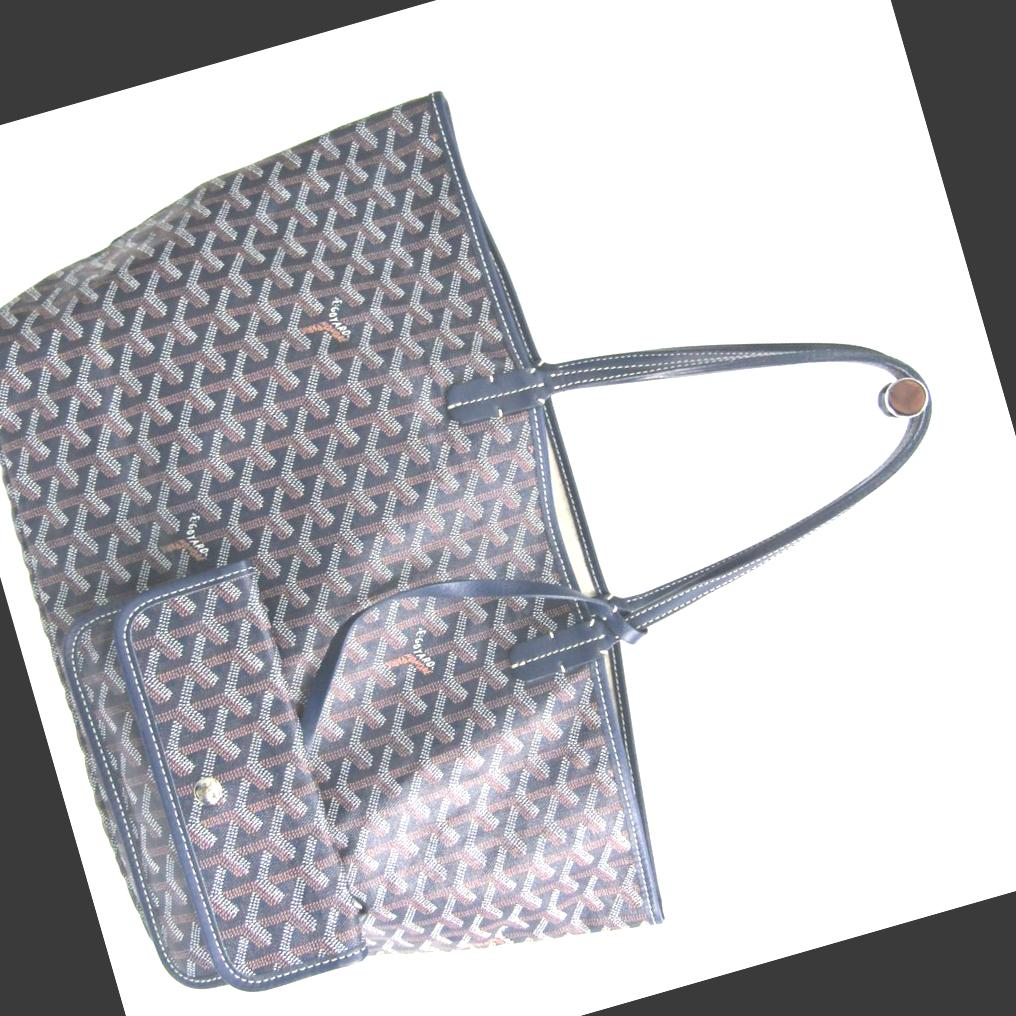GOYARD: (0, 92, 663, 1016), (64, 568, 364, 999)
